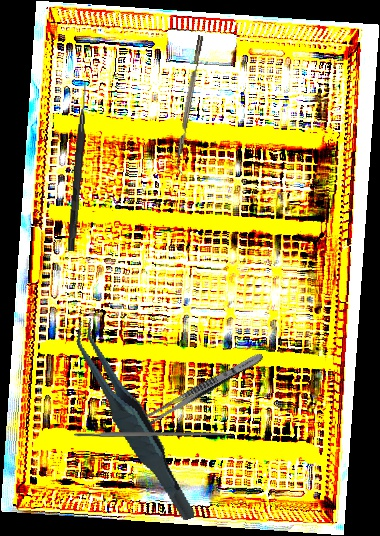Chopper: (171, 35, 211, 175)
Dressing Forceps: (136, 349, 266, 432)
Hook Surgical: (67, 81, 89, 252)
Scalpel Handle: (74, 431, 226, 437)
Tissue Forceps: (71, 305, 196, 536)
